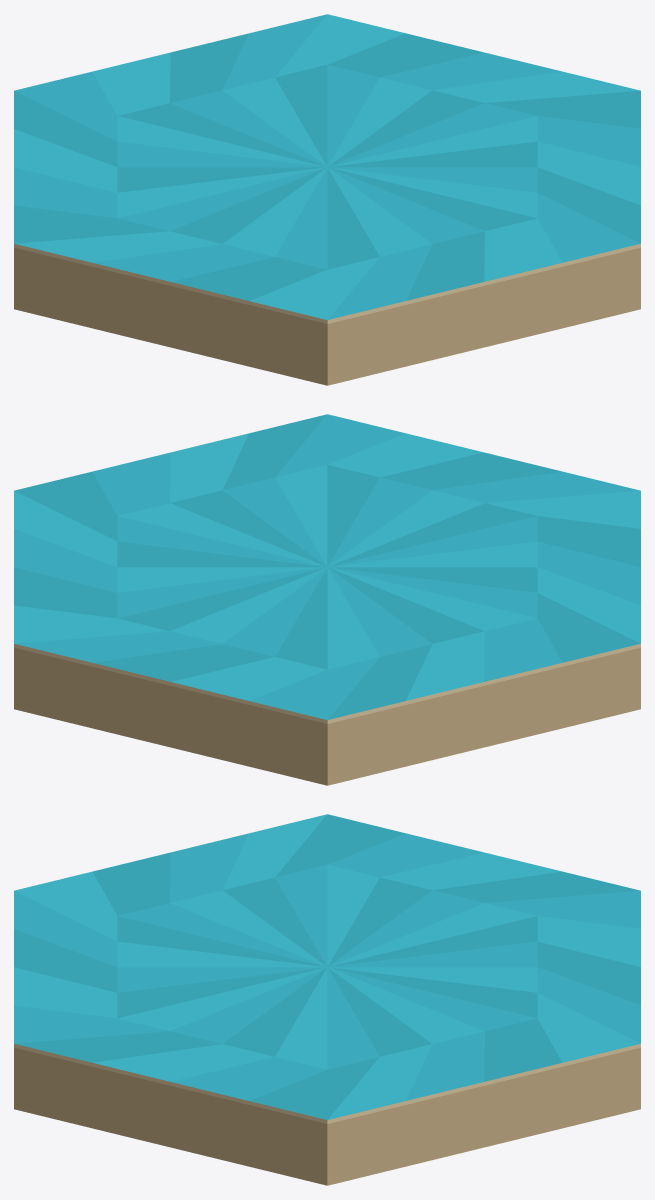
File: terrain.glb
3 renders of one model, top to bottom at view 1: azimuth 30°, elevation 25°; view 2: azimuth 150°, elevation 25°; view 3: azimuth 270°, elevation 25°, orthographic.
Visible parts, largest first — view 1: Tile_天气工厂; view 2: Tile_天气工厂; view 3: Tile_天气工厂.
Part boxes in pixels (box(x1,y1,x2,y2)): Tile_天气工厂: box(14, 14, 640, 385); Tile_天气工厂: box(14, 414, 640, 785); Tile_天气工厂: box(14, 814, 640, 1185).
Size of the model in its own units: 2 by 0.2 by 1.73.
